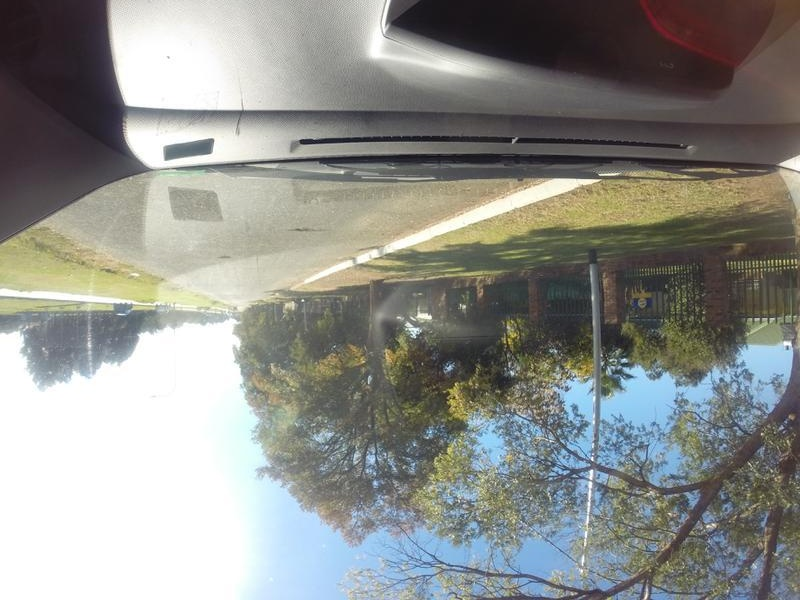pothole: (282, 220, 319, 240), (211, 250, 231, 264)
